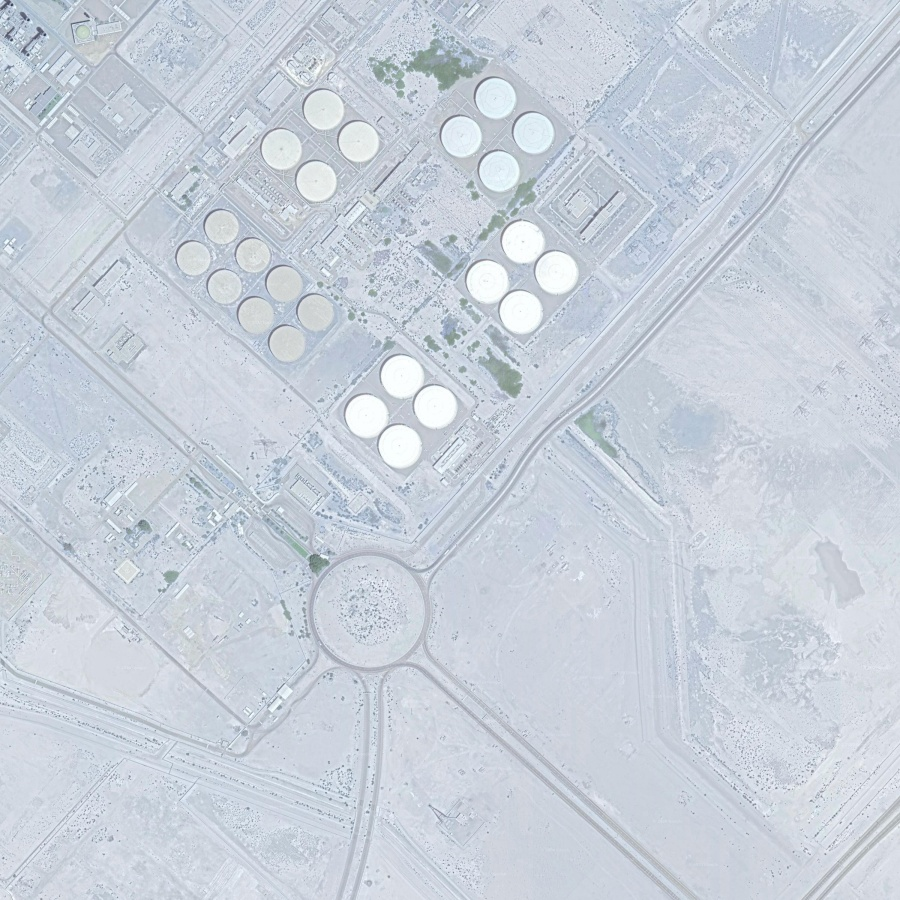PowerPlant: (166, 28, 616, 488)
